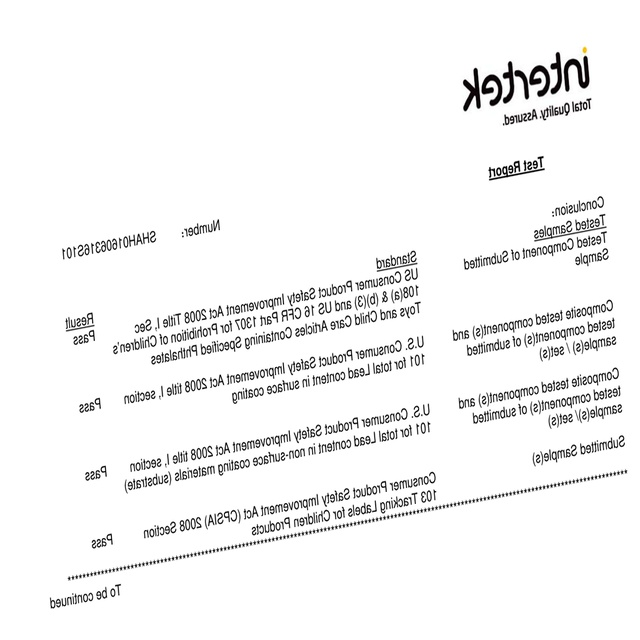intertek: (458, 42, 596, 111)
